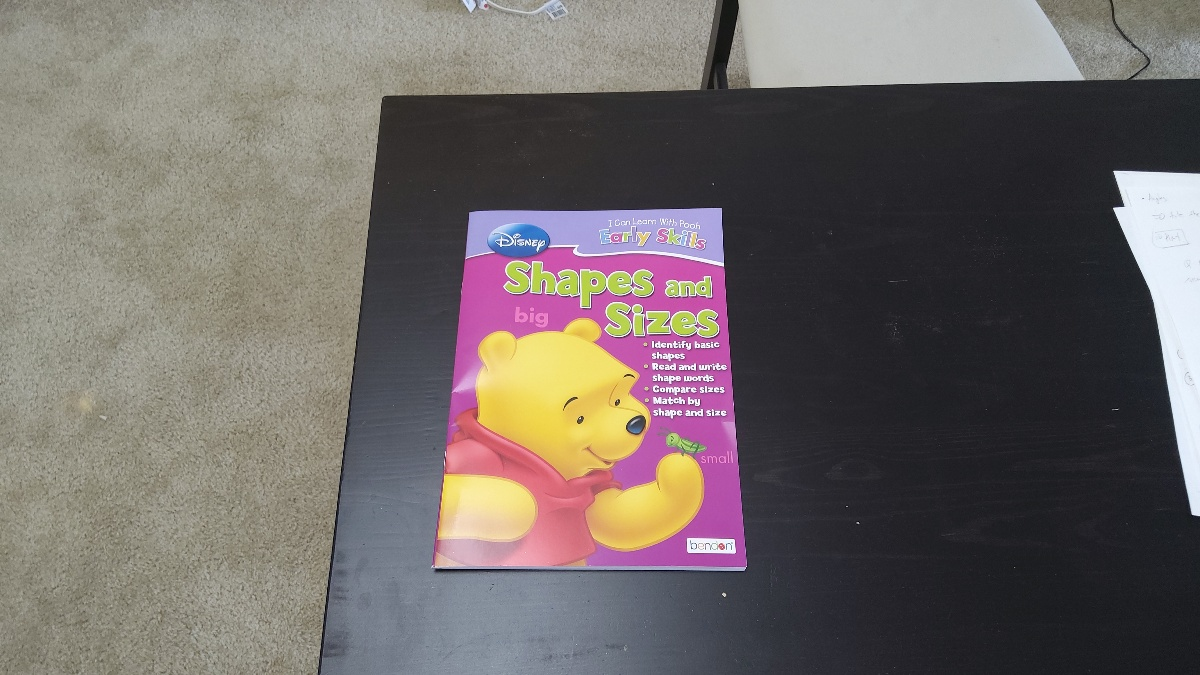book: (435, 200, 750, 578)
